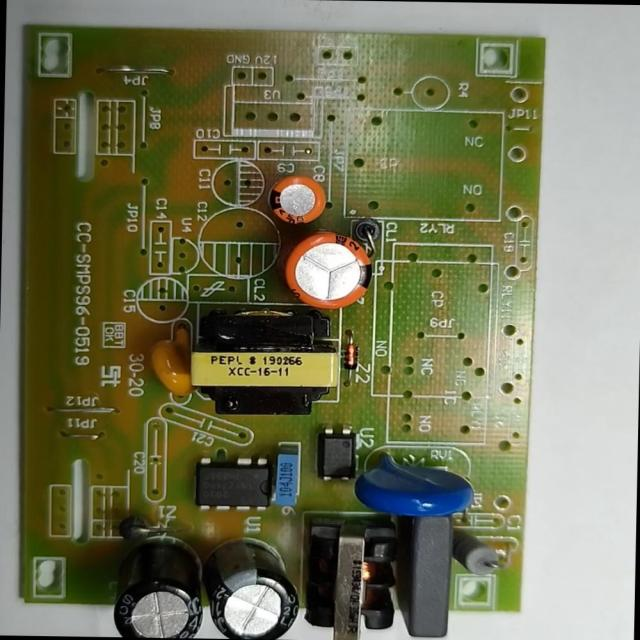Cap1: (280, 226, 378, 311)
Cap2: (266, 170, 326, 228)
Cap3: (201, 536, 305, 639)
Cap4: (109, 534, 207, 638)
MOSFET: (194, 457, 274, 510)
Mov: (353, 446, 479, 520)
Resistor: (447, 529, 500, 578)
Transformer: (186, 306, 344, 420), (305, 519, 402, 639)
